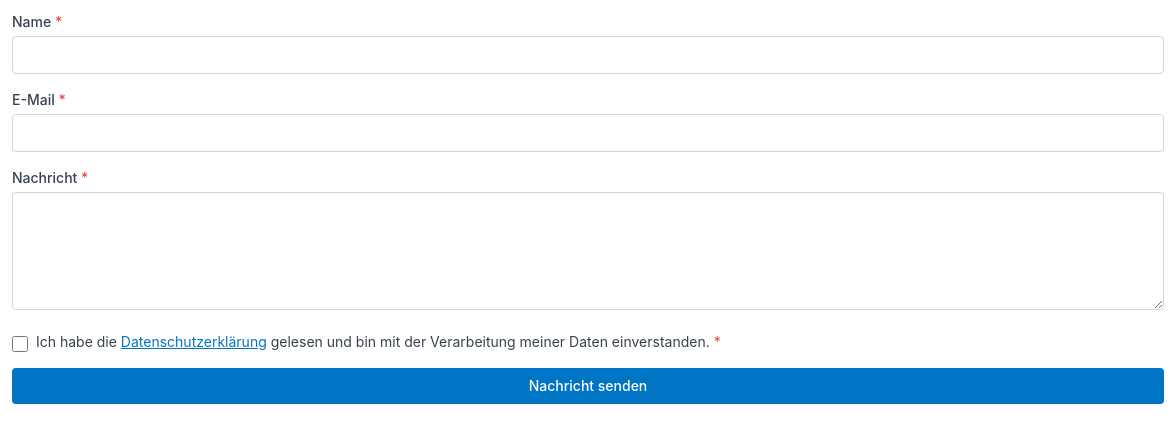
Test case: ContactForm › should not submit the form without the privacy checkbox checked
Note: Fill in all fields except privacy consent
Type "Test User" into the field labelled "Name *".
click(588, 55); type("Test User")  # box [12,36,1164,74]
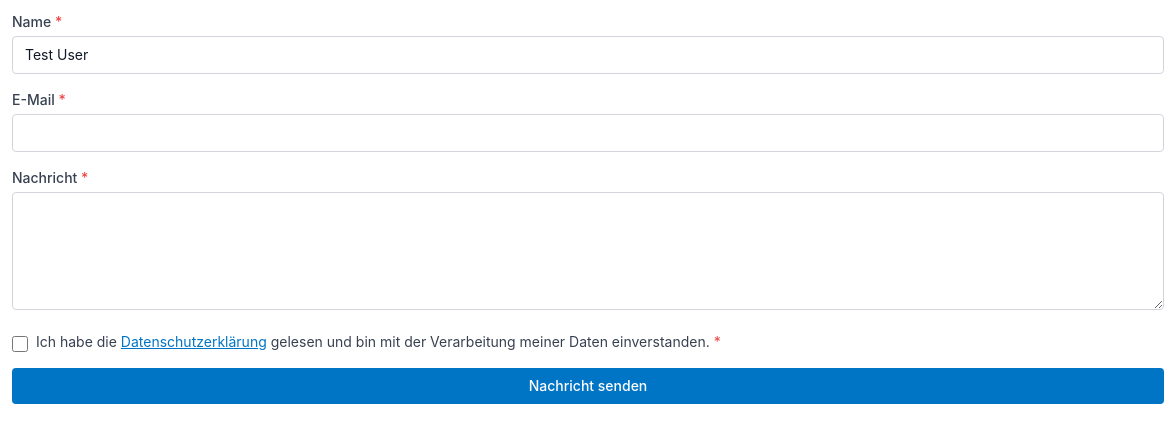
Type "test@example.com" into the field labelled "E-Mail *".
click(588, 133); type("test@example.com")  # box [12,114,1164,152]
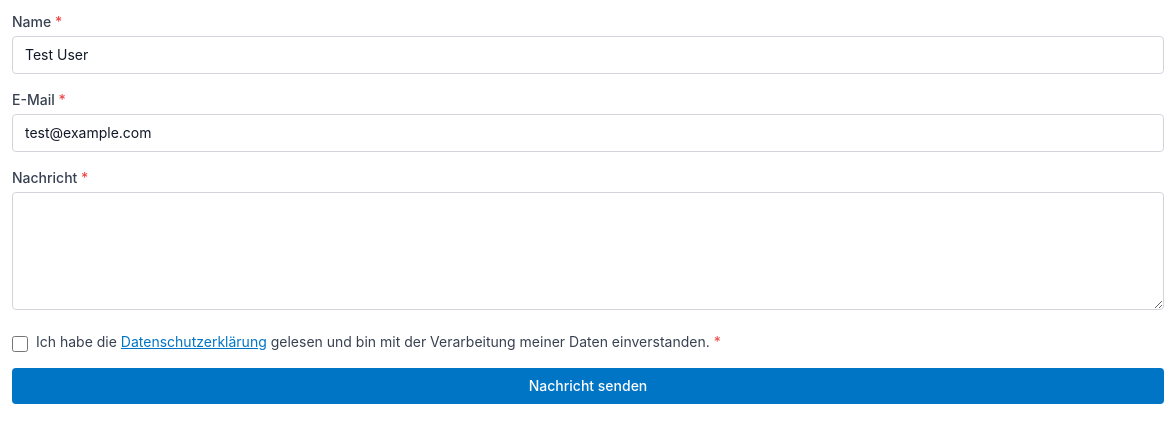
Type "Test message" into the text box labelled "Nachricht *".
click(588, 251); type("Test message")  # box [12,192,1164,310]
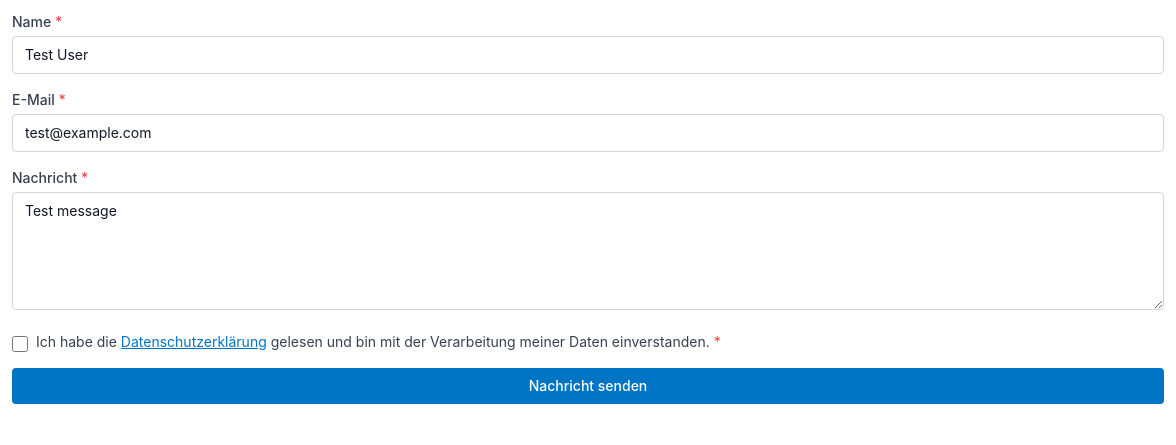
Note: Try to submit
Click the button "Nachricht senden".
click(588, 386)  # box [12,368,1164,404]
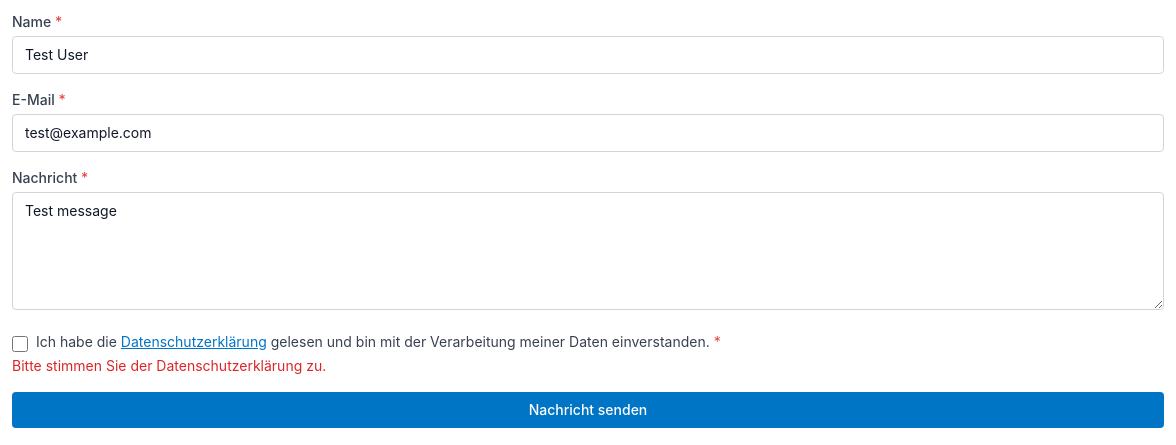
Now the text "Bitte stimmen Sie der Datenschutzerklärung zu." is shown, box [12,357,326,374]
